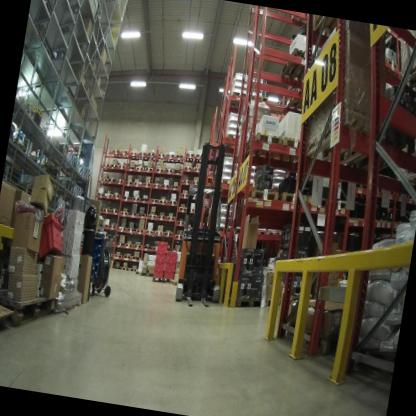forklift: (163, 135, 249, 316)
pallet: (294, 99, 382, 179), (365, 89, 416, 165), (0, 283, 64, 343), (267, 38, 314, 94), (241, 128, 284, 168), (271, 129, 307, 168), (238, 182, 280, 215), (280, 87, 317, 120), (0, 293, 18, 339), (250, 217, 278, 243), (276, 187, 309, 208), (227, 289, 263, 306), (379, 56, 403, 79), (305, 194, 331, 213), (329, 195, 352, 214), (260, 296, 290, 310), (148, 274, 171, 287), (217, 174, 233, 189), (138, 267, 153, 280), (145, 148, 158, 162), (128, 147, 140, 162), (171, 168, 183, 183), (100, 161, 113, 174), (153, 166, 166, 179), (193, 149, 204, 164), (161, 226, 174, 238), (120, 146, 130, 161), (148, 194, 160, 206), (110, 147, 122, 159), (164, 166, 174, 180), (138, 148, 147, 163), (173, 152, 185, 163), (164, 152, 176, 163), (134, 165, 145, 177), (185, 150, 195, 163), (156, 150, 166, 163), (117, 162, 127, 175), (144, 166, 154, 179), (126, 164, 136, 176), (93, 188, 105, 197), (98, 175, 110, 184), (166, 197, 178, 206), (107, 174, 117, 184), (158, 195, 168, 205), (142, 241, 152, 251), (102, 190, 113, 199), (180, 177, 192, 185), (169, 277, 179, 286), (116, 239, 126, 248), (151, 180, 161, 189), (136, 211, 147, 219), (131, 179, 142, 187), (170, 182, 181, 190), (182, 165, 193, 173), (111, 163, 118, 175), (102, 205, 111, 214), (126, 225, 135, 234), (113, 253, 123, 261), (134, 227, 144, 235), (117, 224, 127, 232), (111, 192, 121, 200), (151, 245, 161, 253), (177, 206, 187, 214), (118, 209, 129, 216), (144, 228, 155, 235), (175, 219, 186, 226), (129, 265, 138, 273), (112, 263, 121, 271), (124, 252, 133, 260), (133, 242, 142, 250), (125, 241, 134, 249), (108, 222, 117, 230), (142, 180, 151, 188), (161, 182, 170, 190), (120, 265, 130, 272), (132, 255, 142, 262), (139, 198, 149, 205), (166, 215, 176, 222), (172, 246, 182, 253), (128, 210, 137, 217), (109, 207, 119, 213), (130, 196, 140, 202), (121, 195, 131, 201), (148, 212, 158, 218), (155, 229, 163, 236), (193, 165, 201, 172), (124, 179, 133, 185), (157, 214, 166, 220), (116, 178, 123, 185), (180, 193, 189, 198), (173, 233, 184, 237), (190, 180, 201, 184), (103, 223, 109, 230)
small_load_carrier: (32, 206, 74, 264), (156, 237, 170, 251), (163, 266, 176, 281), (166, 247, 180, 260), (152, 267, 165, 279), (153, 258, 166, 269), (154, 249, 167, 259), (165, 258, 177, 268)
